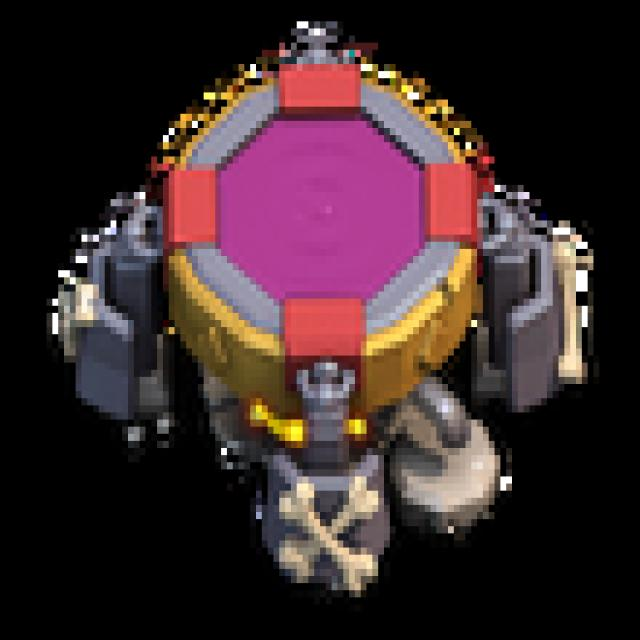dark_spell_factory: (38, 6, 609, 628)
